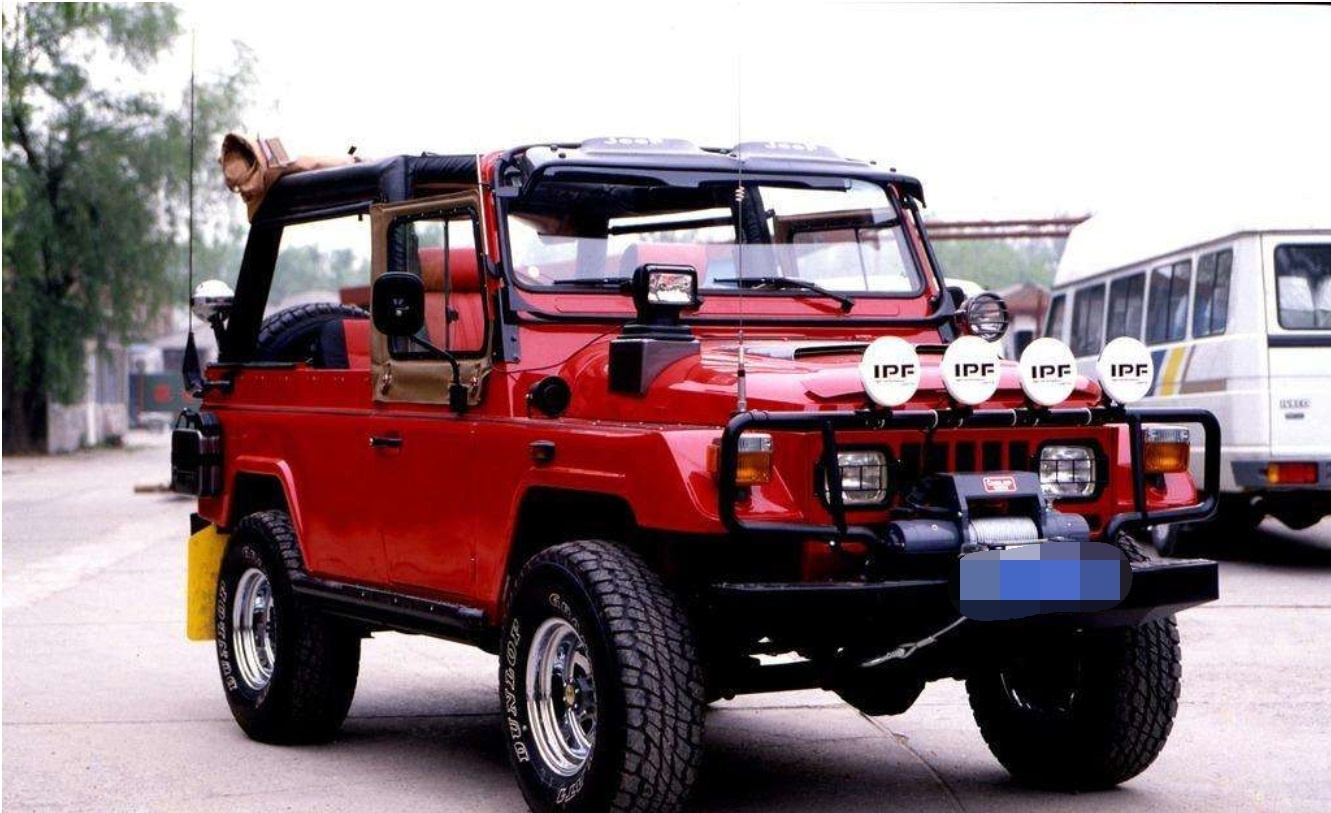jeep: (155, 122, 1210, 808)
